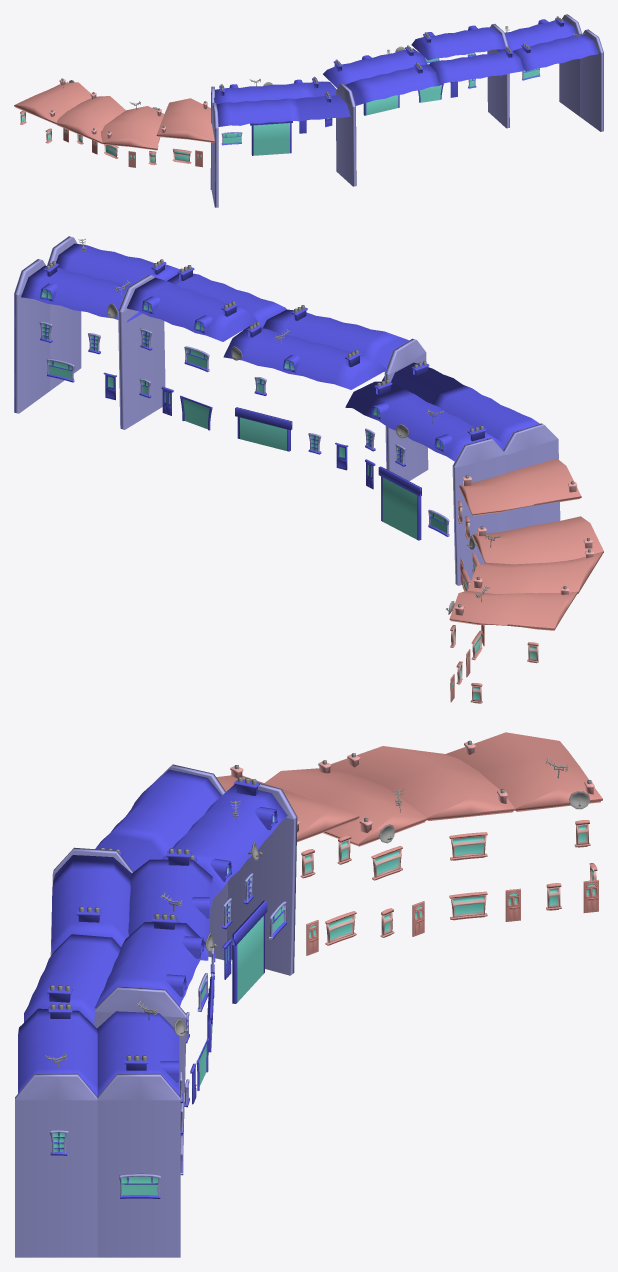
Rendered from Kyle_B_3_NEWFIX.fbx.
3 views of the same model, one above another, from view 1: azimuth 30°, elevation 25°; view 2: azimuth 150°, elevation 25°; view 3: azimuth 270°, elevation 25° (orthographic). The views are drawn at different scales.
Visible parts, largest first — view 1: Kyle_B_3_NEWFIX; view 2: Kyle_B_3_NEWFIX; view 3: Kyle_B_3_NEWFIX.
Part boxes in pixels (x1,y1,x2,y2): Kyle_B_3_NEWFIX: (14, 14, 603, 207); Kyle_B_3_NEWFIX: (14, 236, 603, 703); Kyle_B_3_NEWFIX: (15, 732, 602, 1257).
Bounding box in the file's own units: 6034 × 1556 × 3371.
